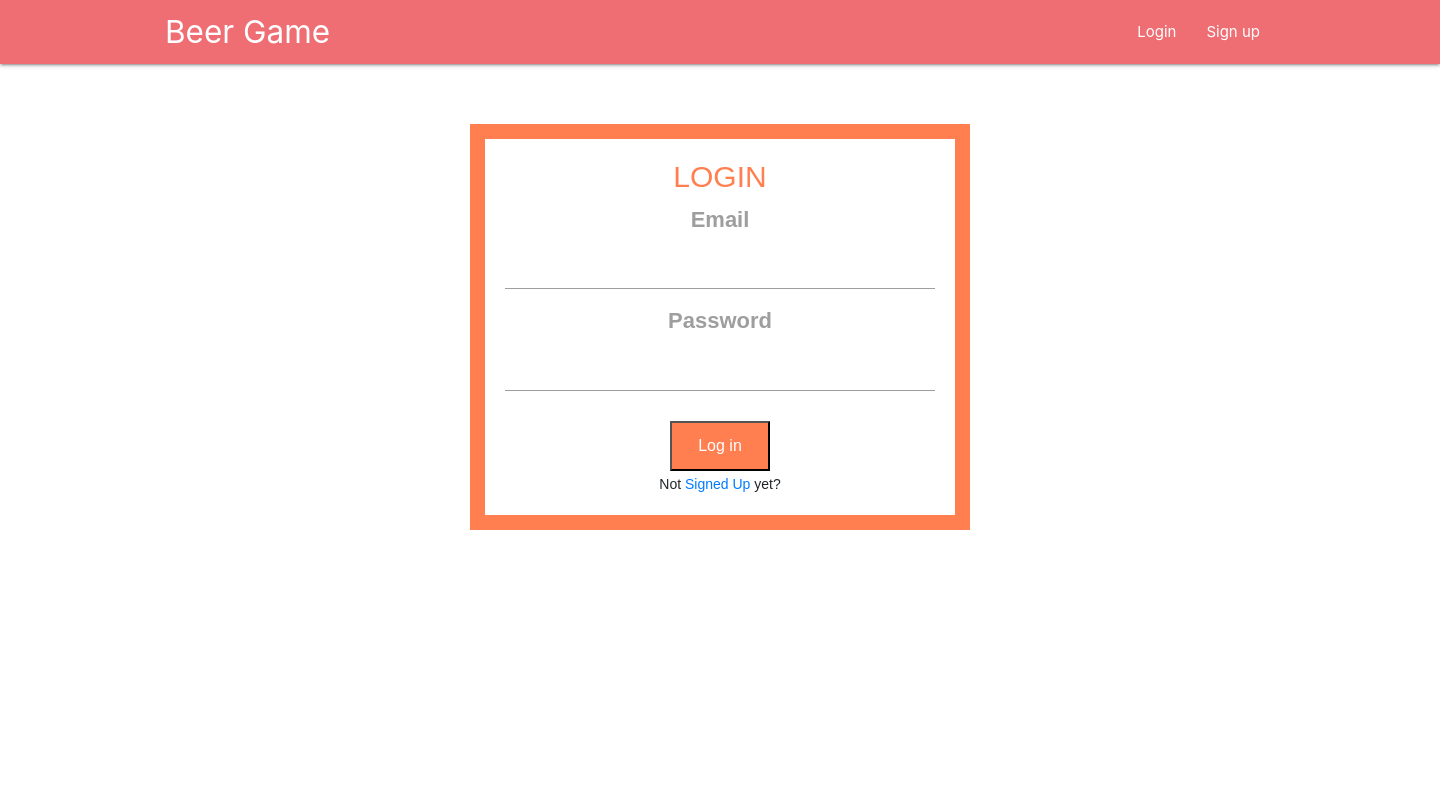
Test case: Fake Authentication › Error in response
Click the button with id "userSubmit" at (720, 446), box 670,420 -> 770,470
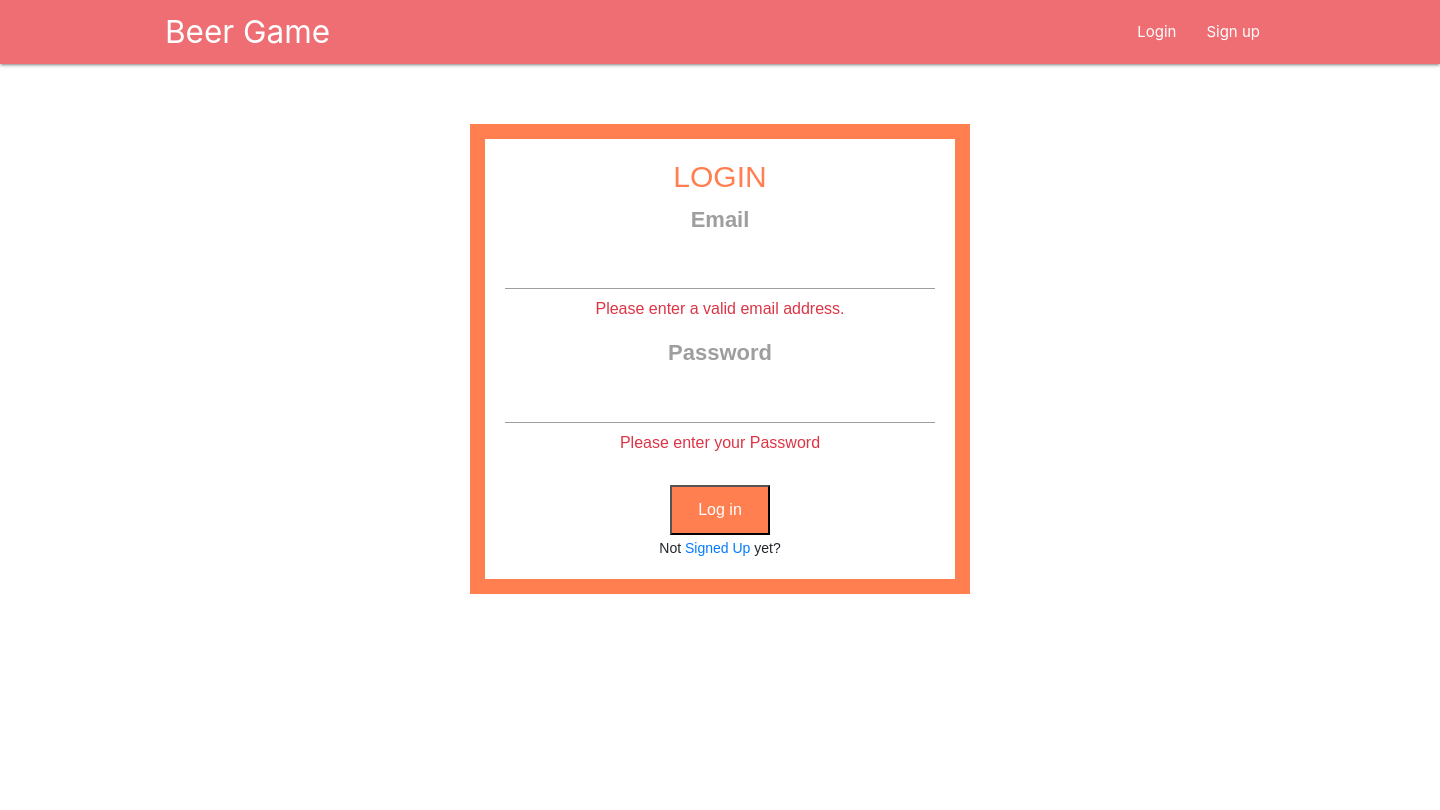
Result: the text "Please enter your Password" is shown at 620,434 -> 820,450
